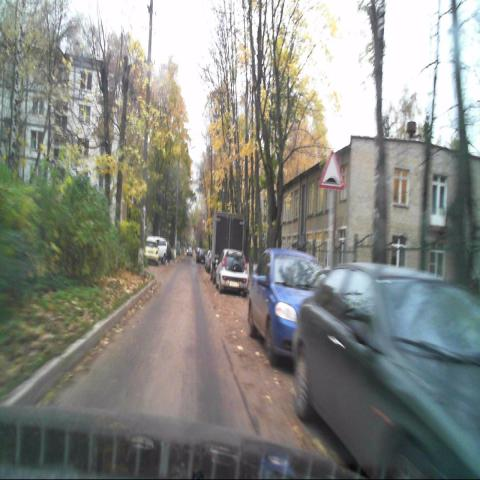1_17: (319, 150, 345, 189)
